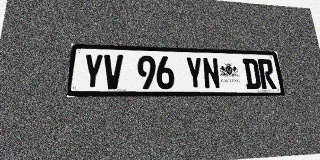6: (156, 56, 175, 89)
9: (138, 55, 156, 89)
D: (242, 58, 261, 89)
N: (202, 57, 221, 89)
R: (257, 59, 277, 89)
V: (103, 54, 123, 89)
Y: (82, 54, 104, 89), (185, 57, 204, 89)
